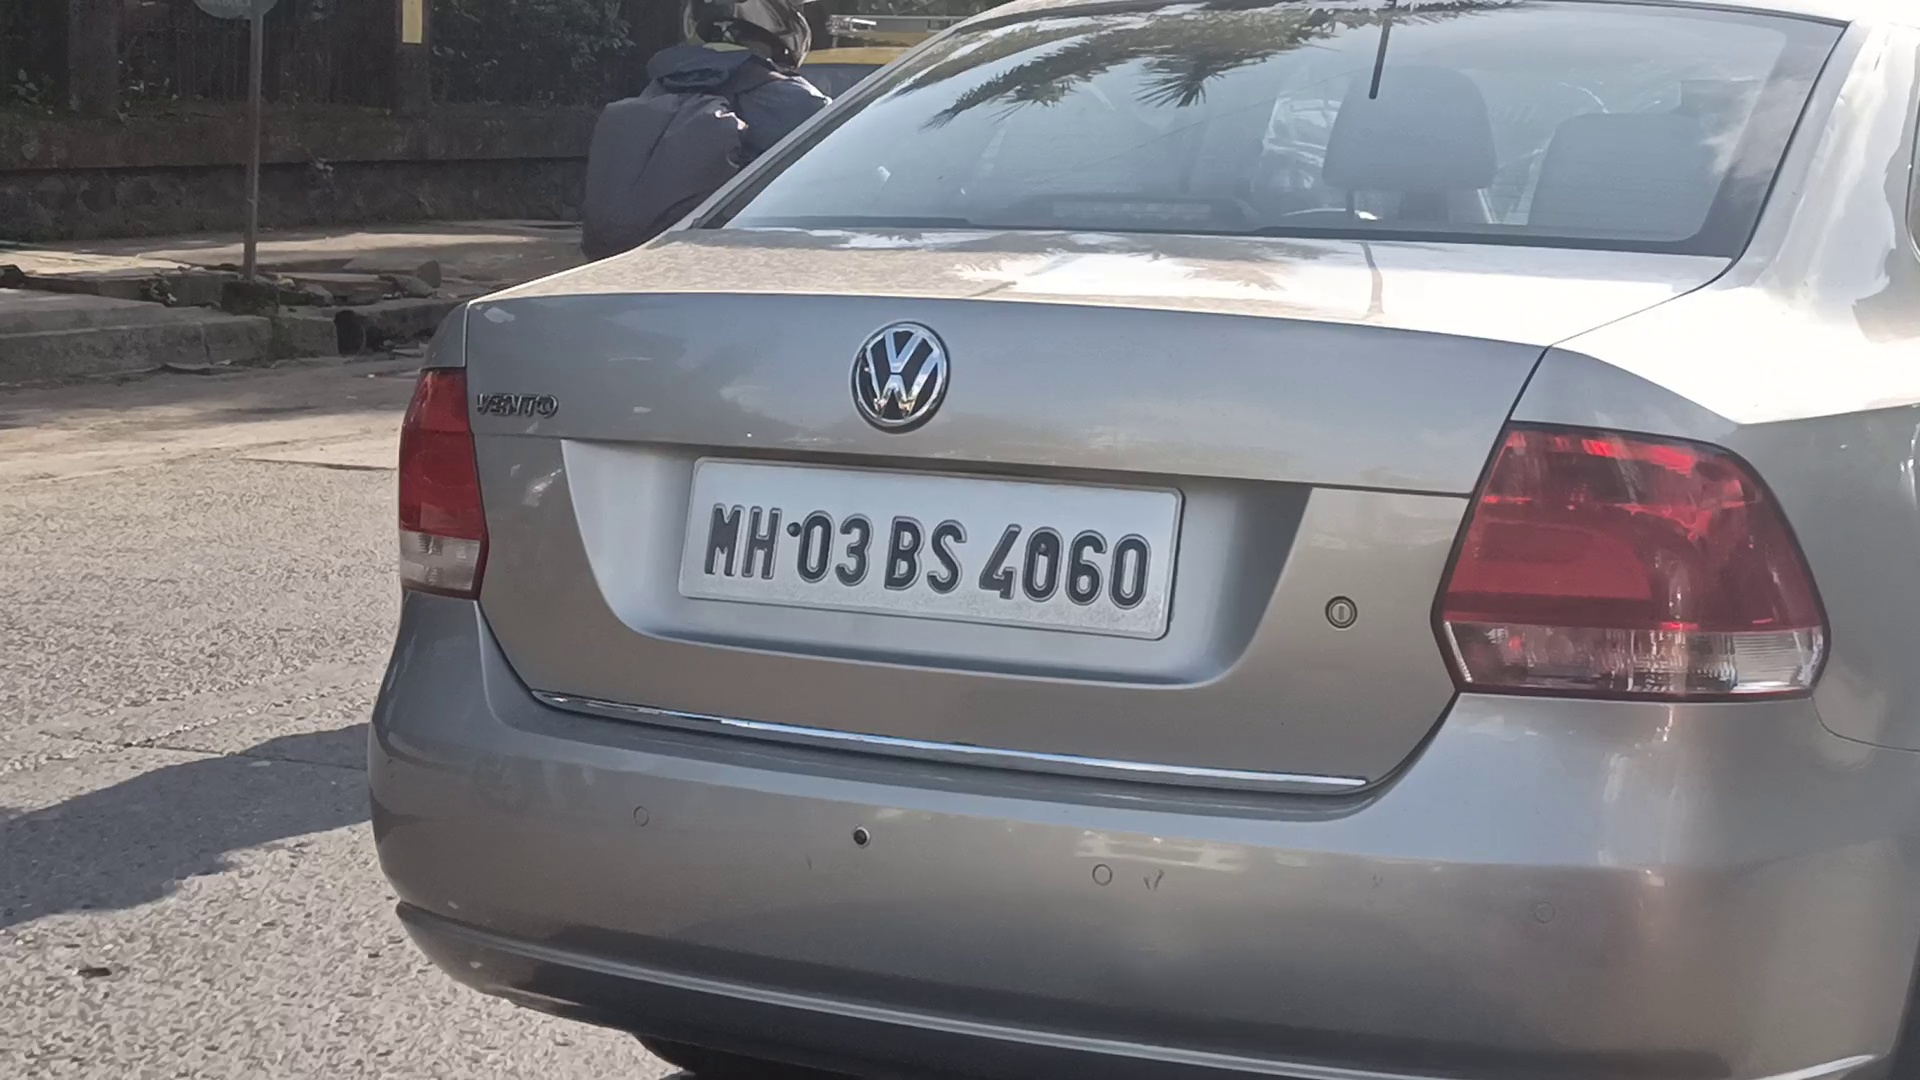MH03BS4060: (675, 456, 1186, 641)
